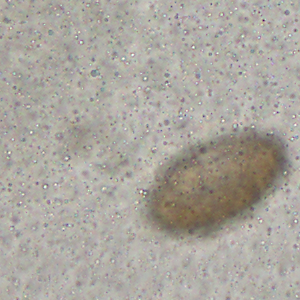Fasciola_hepatica_egg: (143, 130, 285, 235)
